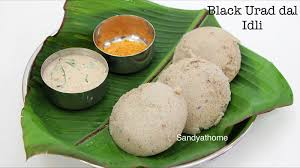idli: (107, 23, 248, 155)
